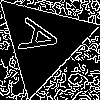A: (17, 17, 70, 61)
